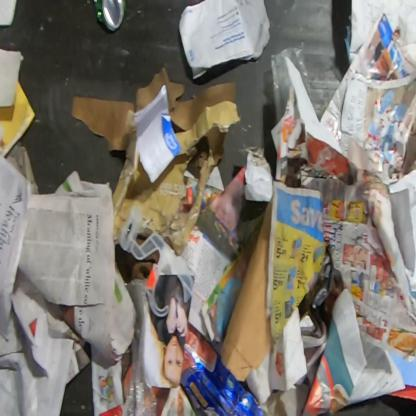cardboard: (112, 101, 242, 257), (71, 66, 237, 152), (220, 198, 273, 382), (180, 323, 268, 415), (0, 80, 36, 158), (242, 146, 274, 204)
metal: (94, 0, 126, 33)
rigid_plastic: (119, 204, 195, 319)
soft_plastic: (119, 277, 159, 415), (269, 45, 309, 124)
